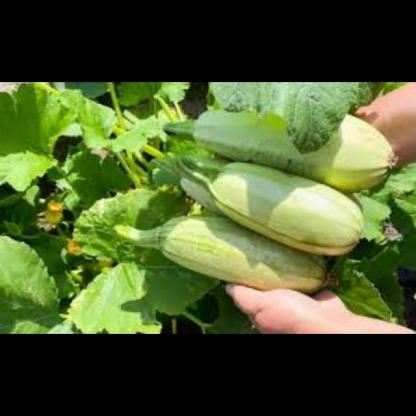vegetable marrow: (109, 212, 354, 293), (149, 102, 407, 174), (154, 169, 382, 242)
